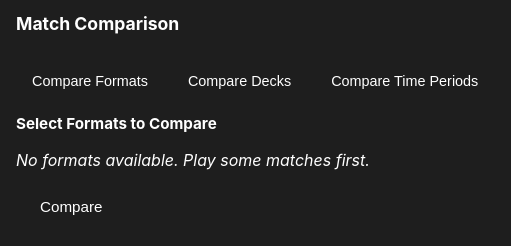
Test case: MatchComparisonPanel › comparison type selection › switches to time periods selector
Click the button "Compare Time Periods" at {"x": 405, "y": 81}, box [315,65,494,97]
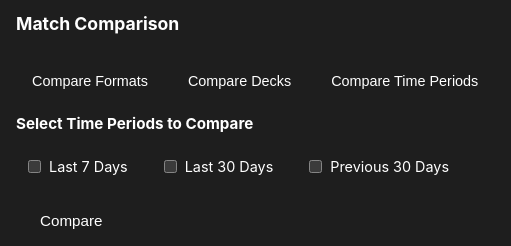
Check: the heading "Select Time Periods to Compare" is shown, box [16,114,253,133]
